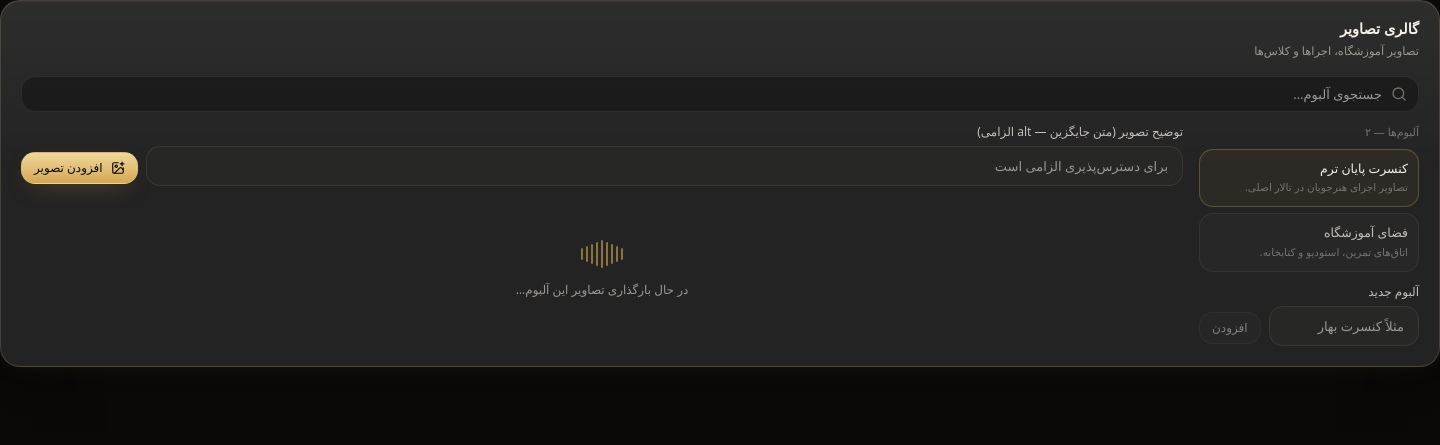
Test: albums › creates an album and selects it
Step 1. Type "کنسرت بهار" into the field labelled "آلبوم جدید" → (1344, 326), box [1269,306,1419,346]
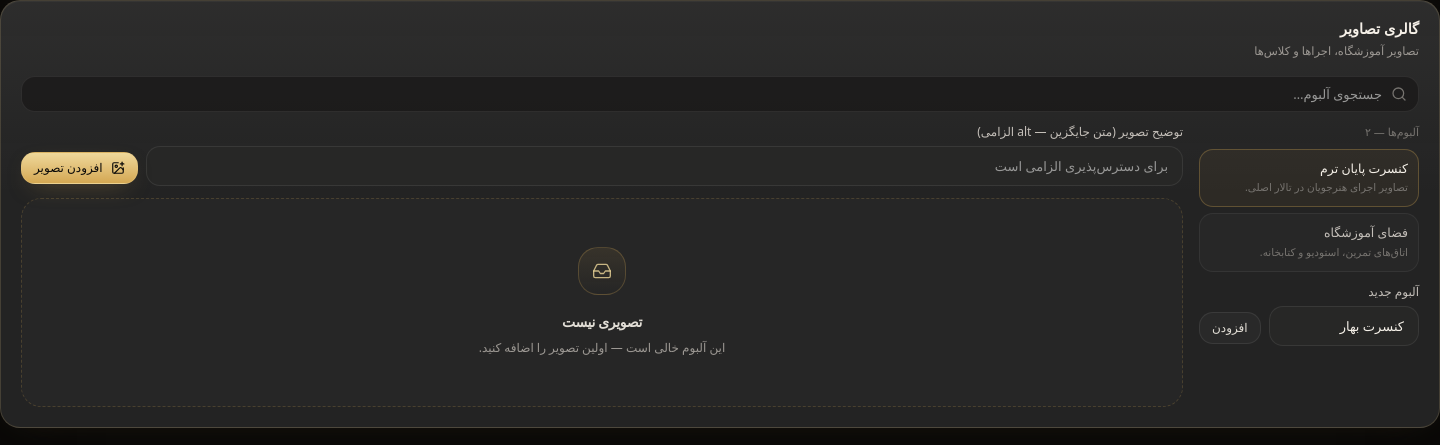
Step 2. Click the button "افزودن" → (1230, 328), box [1199,312,1261,344]
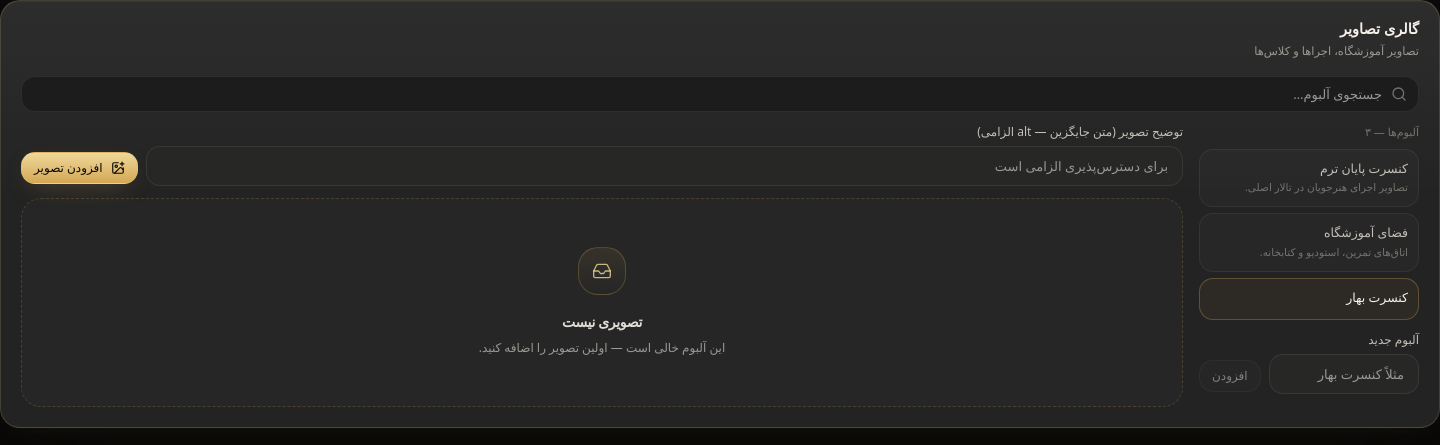
Result: the text "کنسرت بهار" is shown at [1346,289,1408,306]
